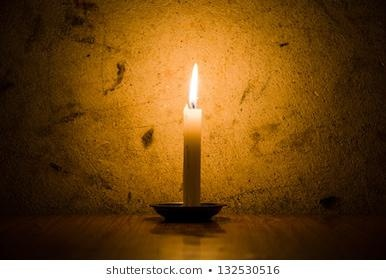fire: (185, 61, 203, 108)
